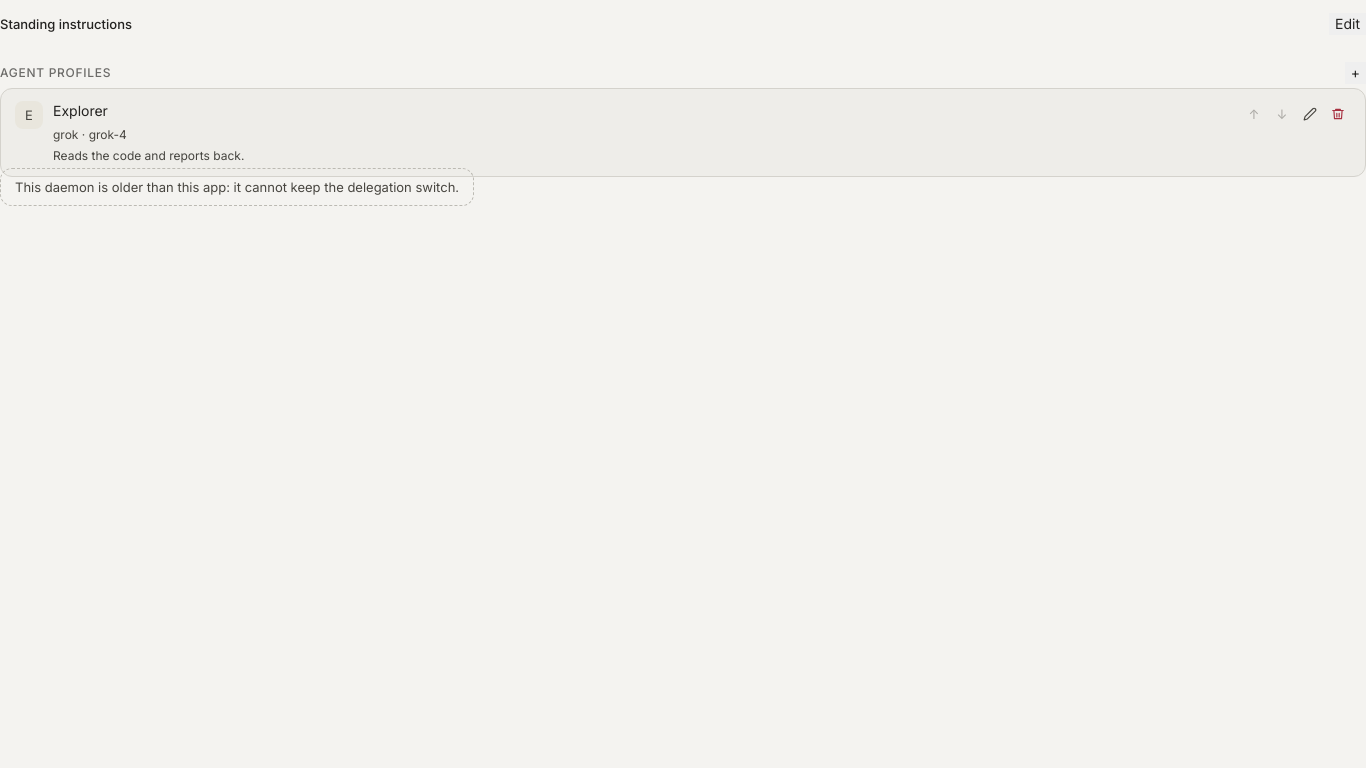
it: Settings agents panel — the profile dialog › shows a refused save inside the dialog card, next to Save
The width and height of the screenshot is (1366, 768).
Click the button named "Edit Explorer".
click(1310, 114)  # box left=1297, top=101, right=1323, bottom=127
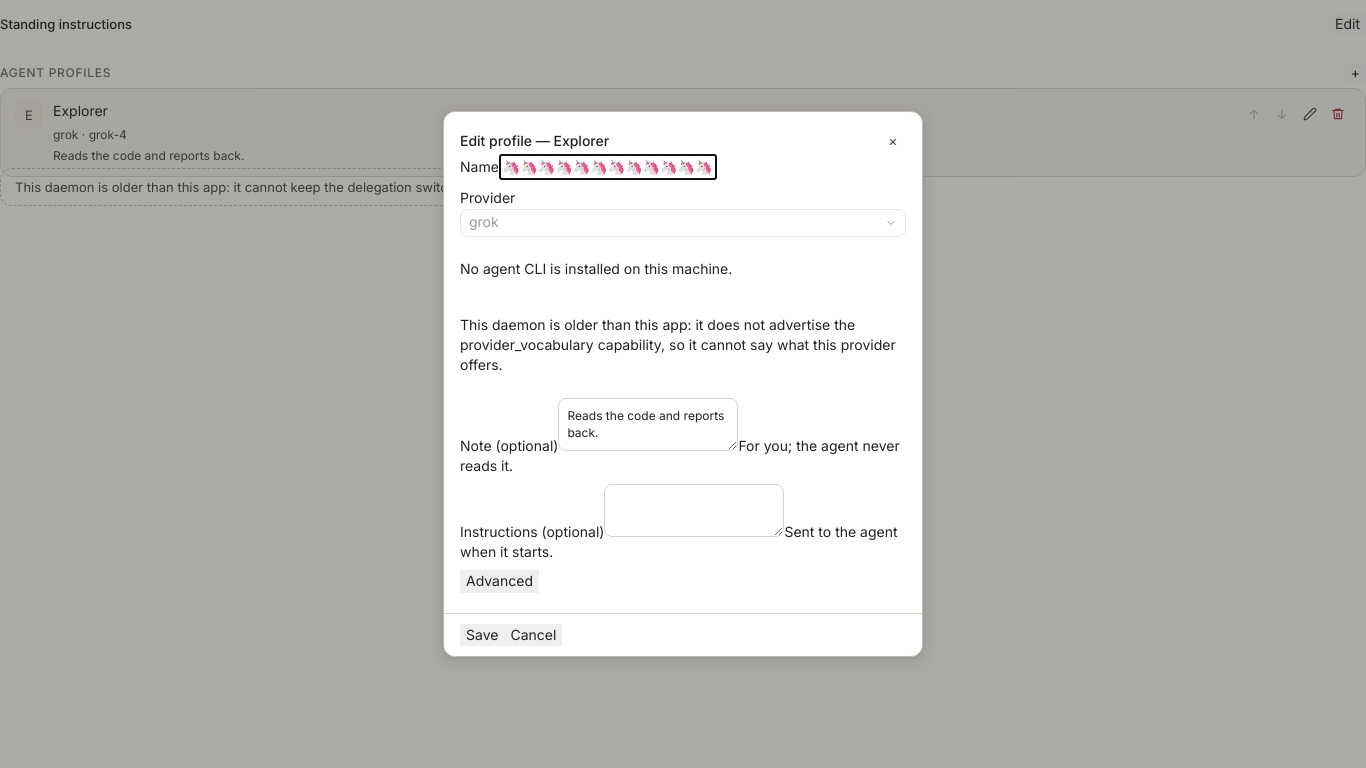
Click the button "Save".
click(482, 635)  # box left=460, top=624, right=504, bottom=646
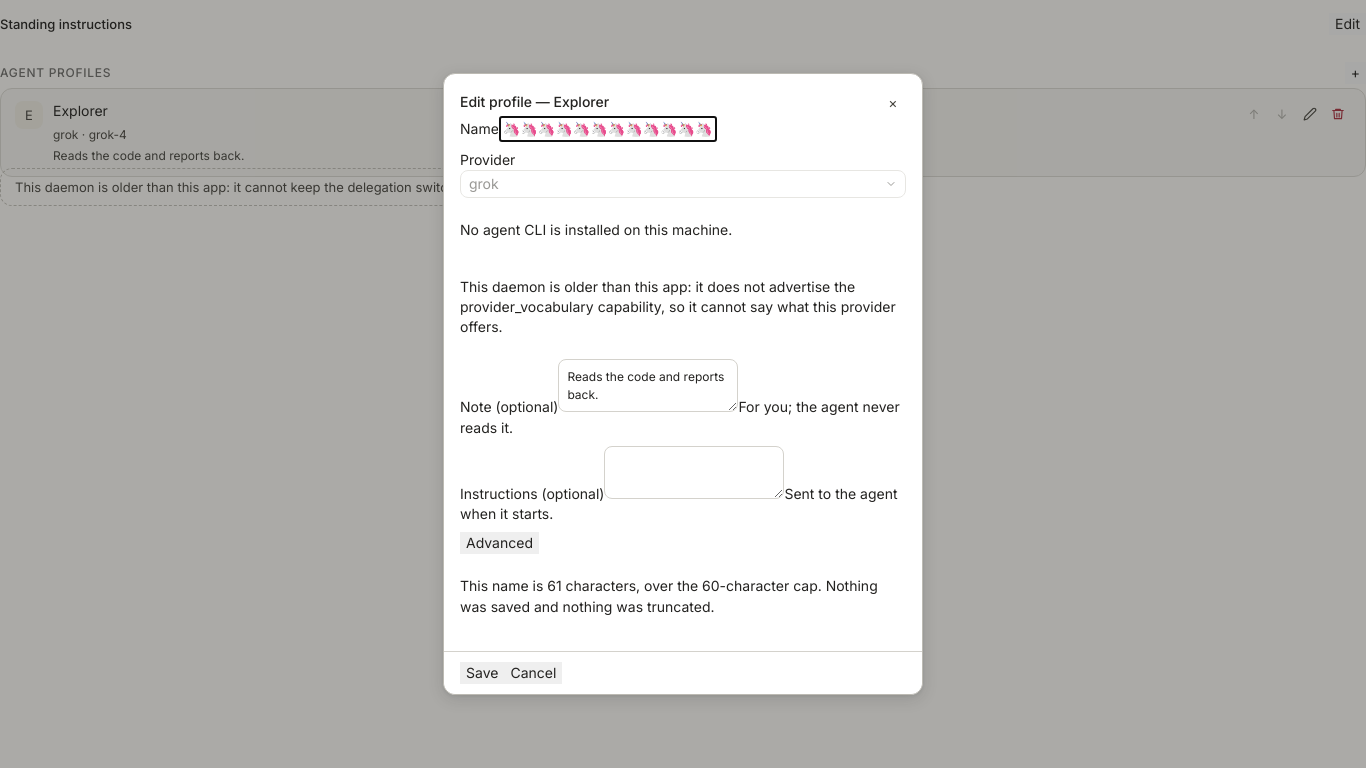
Result: the element with class "edit-scrim" is shown
Result: the message shows "61 characters" at left=460, top=578, right=878, bottom=615
